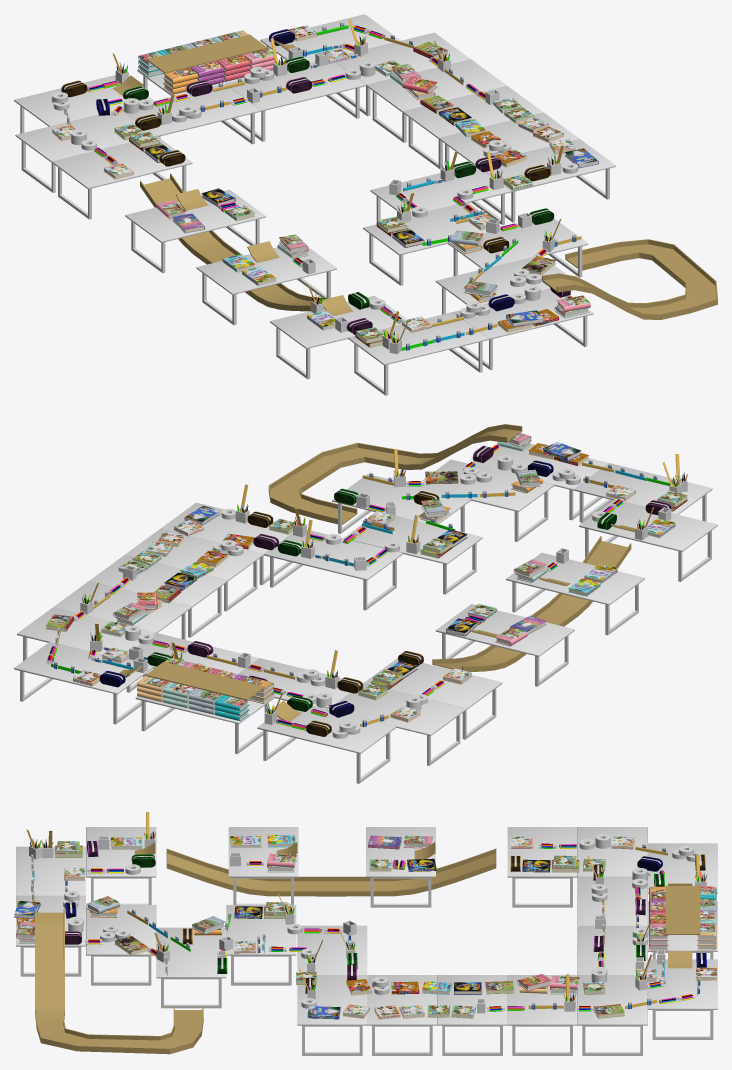
Rendered from track 2.fbx.
3 renders of one model, top to bottom at view 1: azimuth 30°, elevation 25°; view 2: azimuth 150°, elevation 25°; view 3: azimuth 270°, elevation 25°, orthographic. The views are drawn at different scales.
Parts seen in each view (by area): view 1: Cube.017, Plane.007, Plane.006, Plane.005; view 2: Cube.017, Plane.007, Plane.006, Plane.005; view 3: Cube.017, Plane.007, Plane.006, Plane.005, Plane.004, Cube.012, Cube.010, Cube.013, Cube.011.
Part boxes in pixels (x1,y1,x2,y2): Cube.017: [14, 14, 615, 395]; Plane.007: [542, 239, 717, 319]; Plane.006: [140, 173, 329, 311]; Plane.005: [147, 34, 267, 73]; Cube.017: [14, 444, 717, 783]; Plane.007: [268, 424, 522, 524]; Plane.006: [432, 536, 631, 671]; Plane.005: [145, 662, 264, 700]; Cube.017: [16, 827, 717, 1055]; Plane.007: [35, 908, 203, 1054]; Plane.006: [166, 848, 496, 896]; Plane.005: [665, 885, 700, 934]; Plane.004: [668, 951, 692, 968]; Cube.012: [307, 1006, 340, 1019]; Cube.010: [368, 835, 401, 849]; Cube.013: [114, 936, 148, 955]; Cube.011: [111, 837, 142, 849].
Bounding box in the file's own units: 400 × 60.48 × 602.
